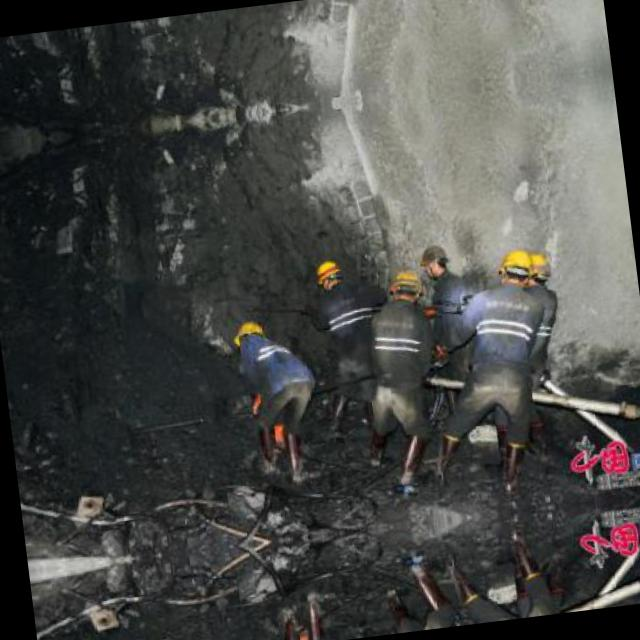helmet: (383, 264, 422, 312), (494, 246, 536, 287), (310, 254, 347, 296), (228, 318, 266, 352), (417, 240, 450, 278), (527, 248, 553, 290)
